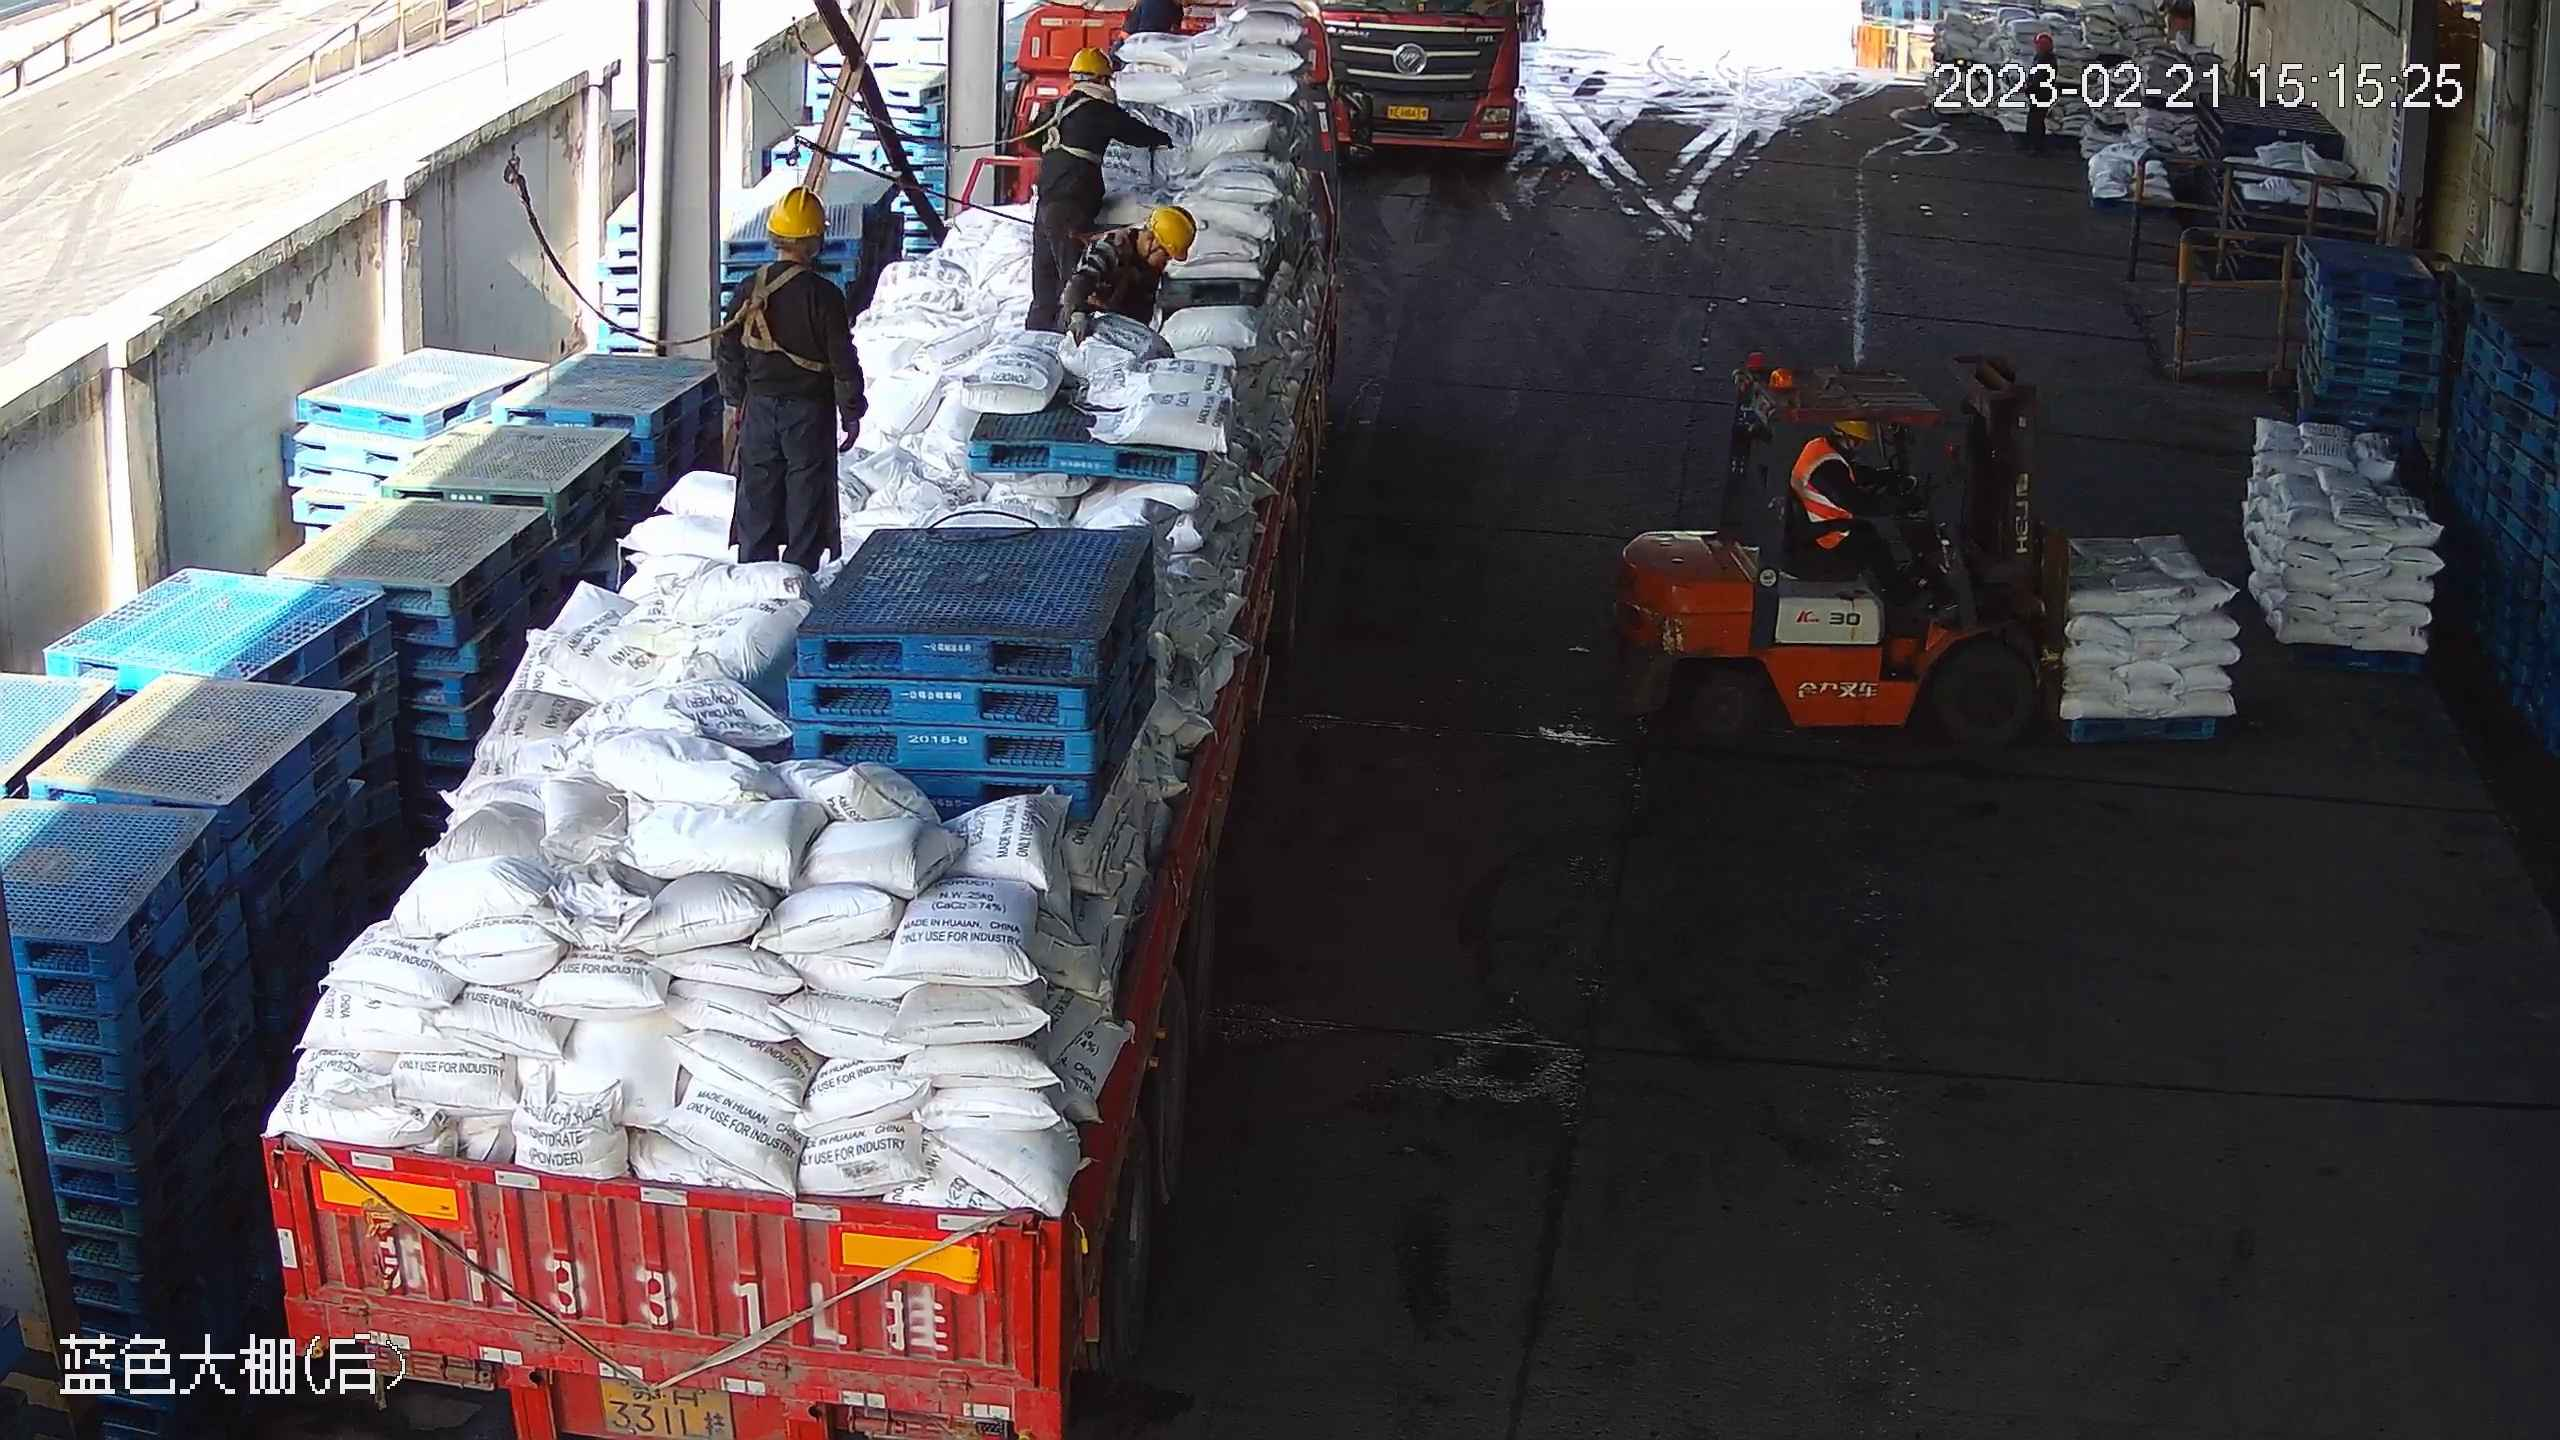belt: (725, 260, 836, 370), (1040, 81, 1105, 164), (1070, 220, 1136, 249)
head: (711, 190, 849, 325), (1090, 210, 1196, 294), (1038, 47, 1135, 138), (1801, 416, 1873, 492)
helmet: (757, 177, 836, 249), (1146, 199, 1201, 258), (1064, 40, 1112, 81)
people: (714, 184, 877, 579), (1029, 49, 1127, 329), (1792, 405, 1909, 575)
truck: (259, 1, 1336, 1440), (1322, 1, 1542, 168)
